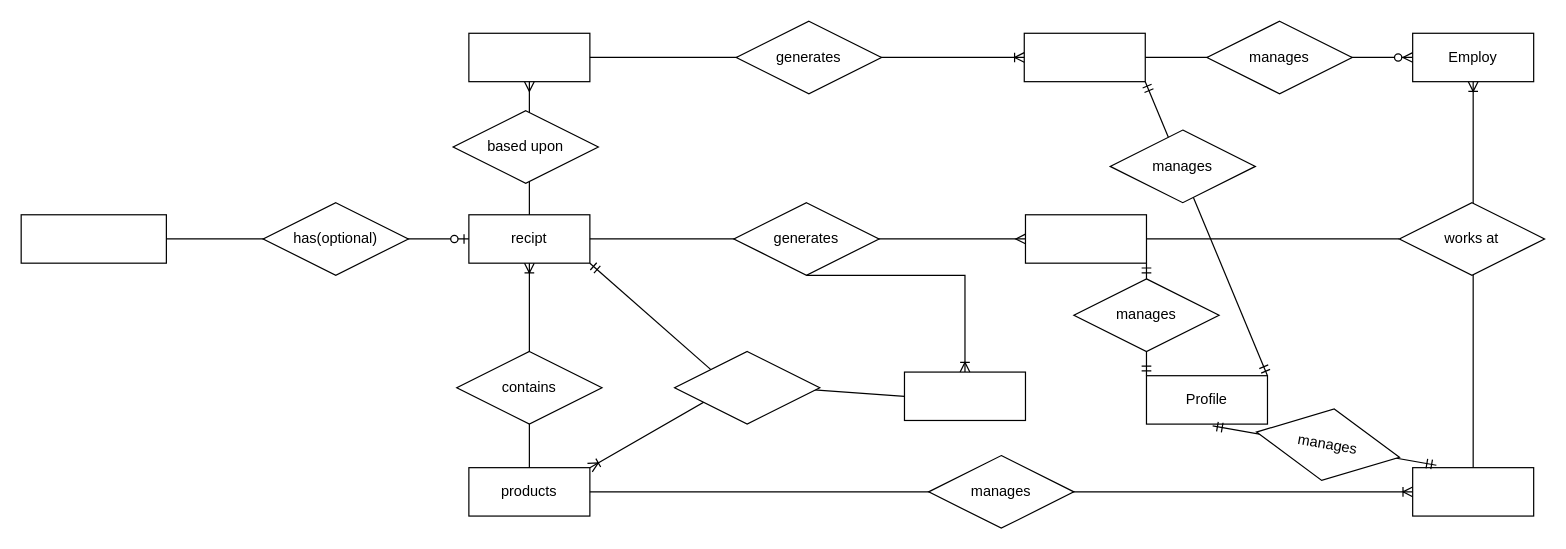
This 1566x549 diagram has some shape labels left out. The shapes that lost their labels are listed below. From the top down, each one's box as (x1, y1, x2, y2) in pixels, then its label:
(468, 32, 590, 82): sales report
(1023, 32, 1145, 82): administration manager
(20, 214, 166, 263): customer details (name , Email)
(1024, 214, 1146, 263): counter manager
(673, 350, 820, 424): referances
(903, 371, 1025, 420): return recipt
(1411, 466, 1534, 516): inventry manager
